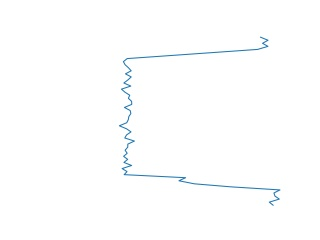distributaryChannelFill: (115, 37, 287, 205)
